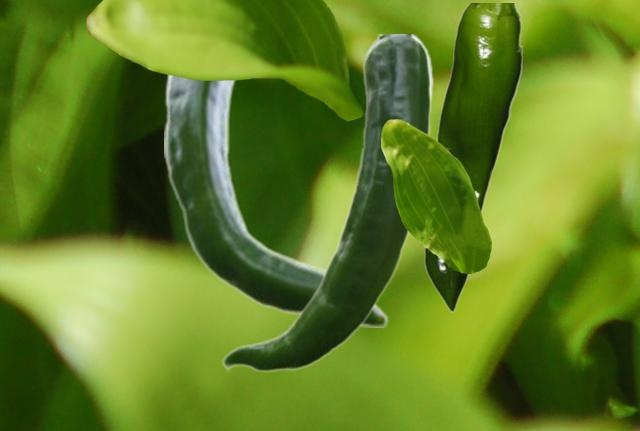green_chili: (221, 34, 433, 372), (164, 75, 388, 326), (423, 3, 521, 311)
